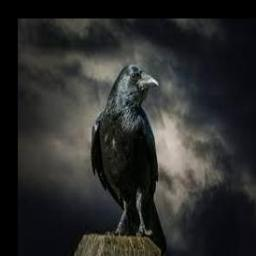Crow: (92, 64, 167, 250)
